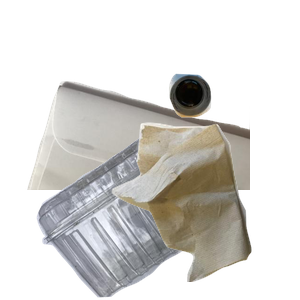glass: (166, 71, 300, 181)
paper: (25, 79, 265, 259)
plastic: (34, 130, 246, 300)
trash: (109, 120, 300, 300)
